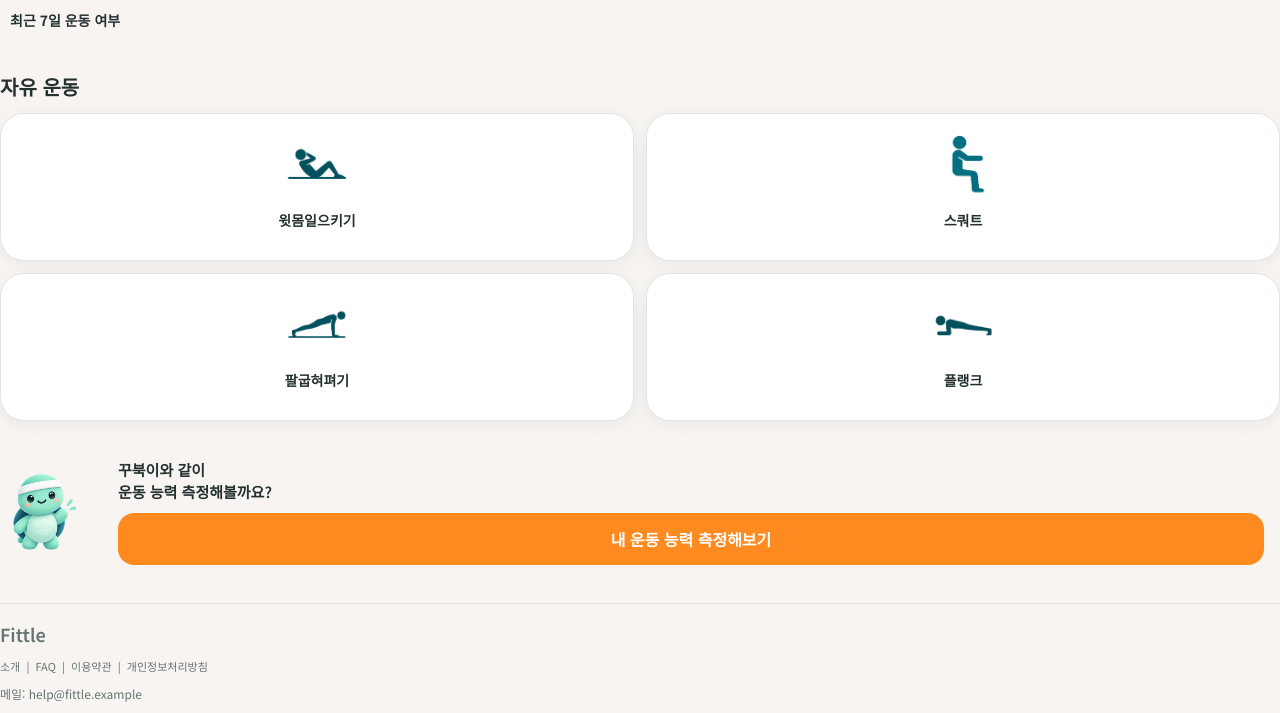
it: refetches before entering and ignores stale cached new state and duplicate clicks
Click the button "내 운동 능력 측정해보기": (691, 539) [118,513,1264,565]
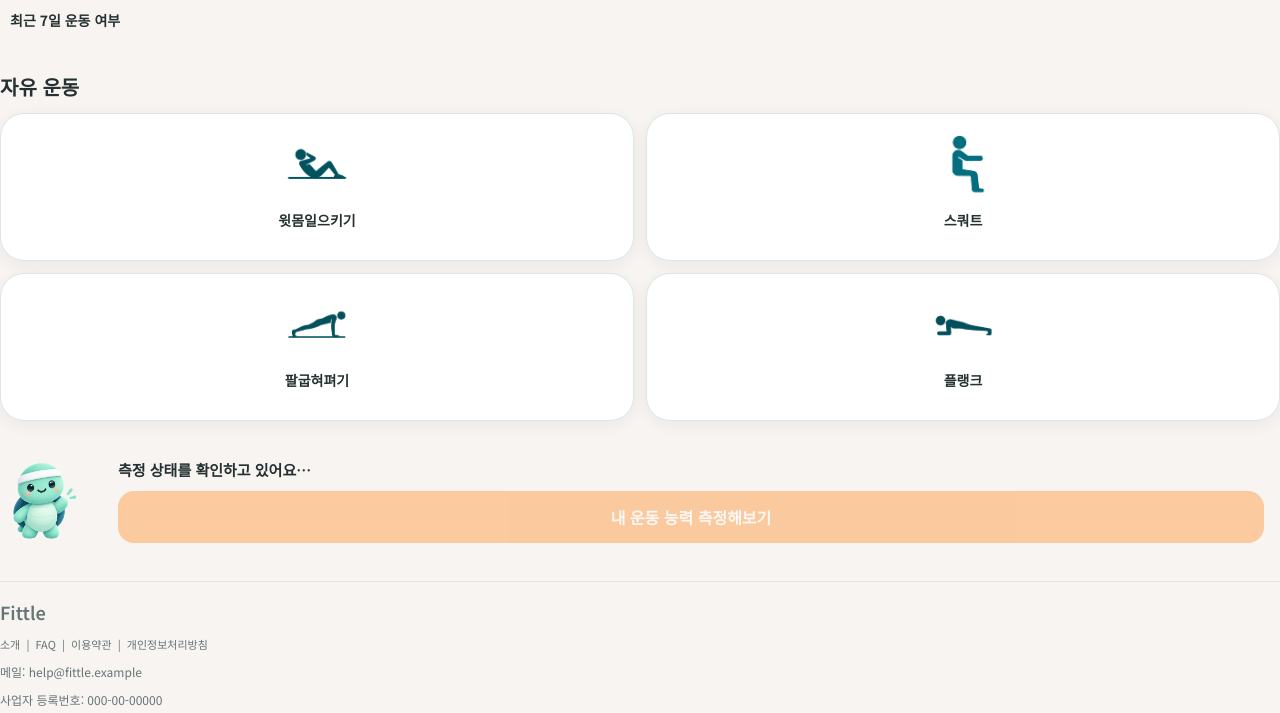
Click the button "내 운동 능력 측정해보기": (691, 517) [118,491,1264,543]
Wait 500 ms
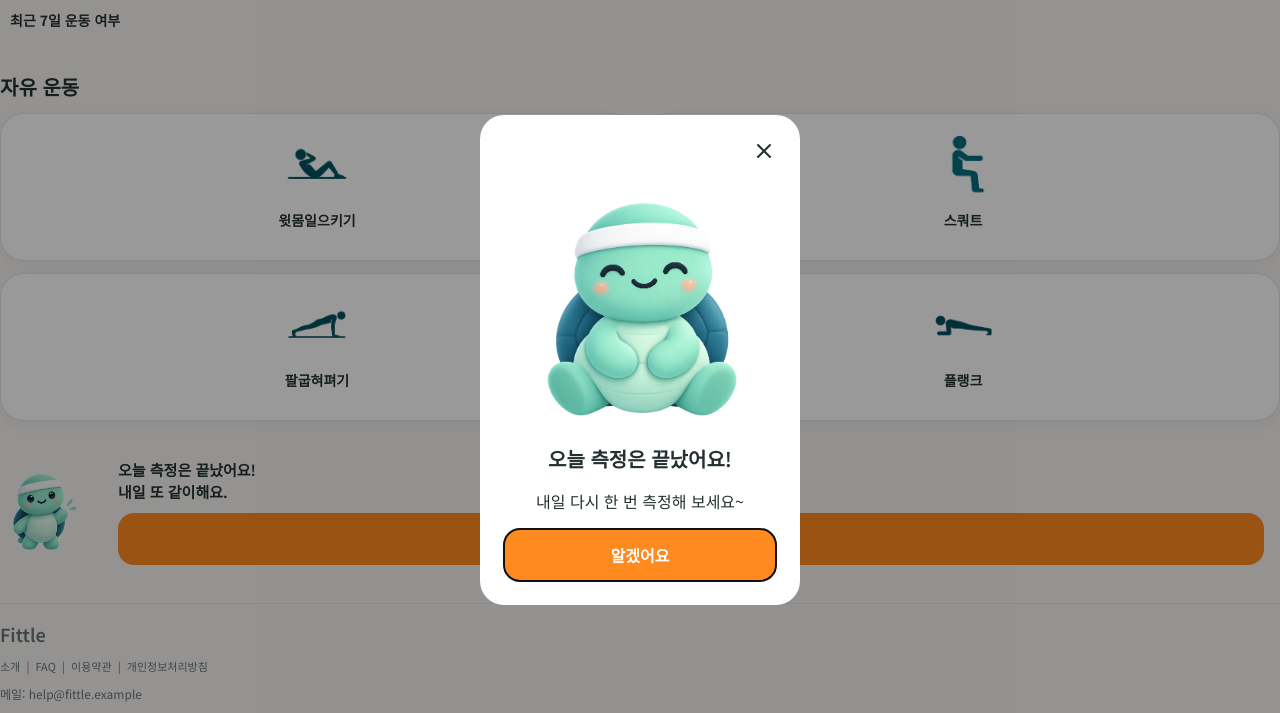
Expected: the dialog shows "오늘 측정은 끝났어요", [548,444,732,473]
